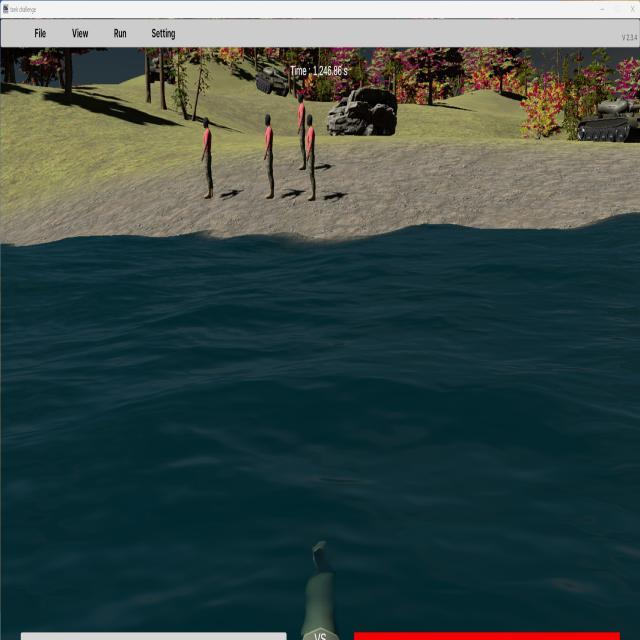Human: (304, 112, 317, 199), (201, 116, 214, 200), (263, 111, 275, 201), (296, 91, 308, 172)
Tank: (576, 97, 640, 145), (256, 66, 290, 97)
